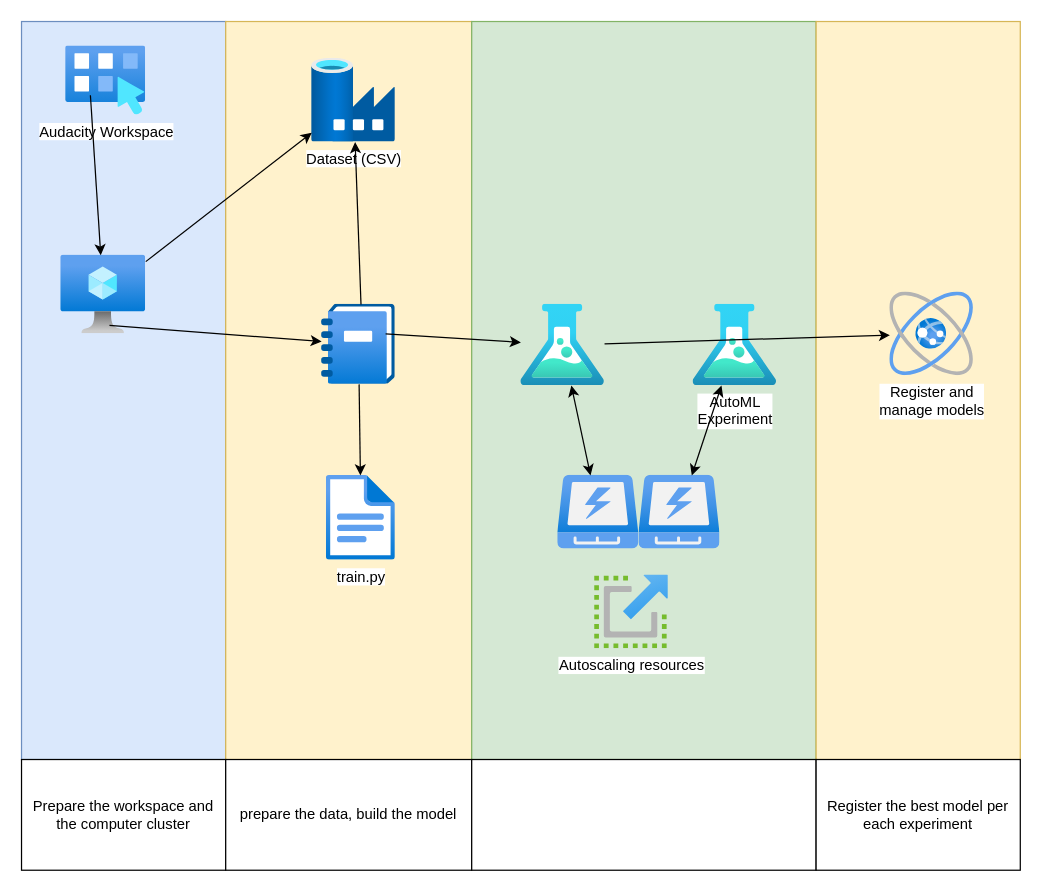
This 1042x892 diagram has some shape labels left out. The centre of each missing label's shape, as x and y in pixels:
"Computer Cluster" belongs at (x=102, y=294).
"Hyperdrive Experiment" belongs at (x=562, y=344).
"Jupyter notebook" belongs at (x=358, y=344).
"train and test two models: Hyperdrive experiment and AutoML experiment" belongs at (x=643, y=814).
